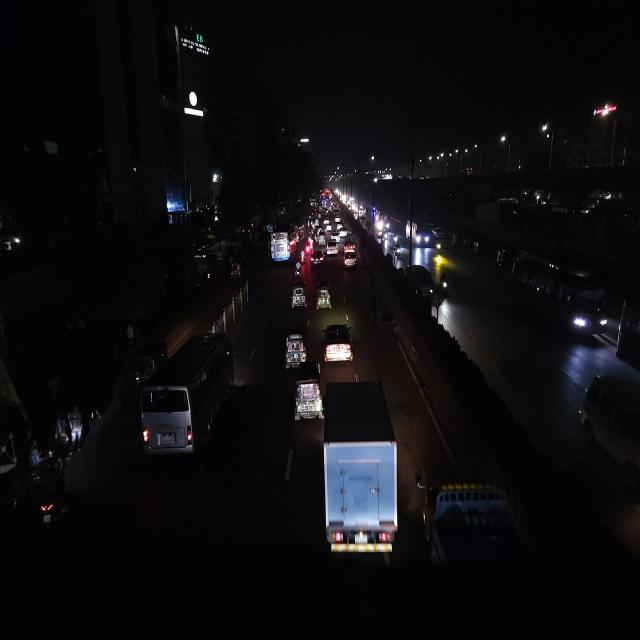bus: (136, 329, 238, 468), (508, 254, 612, 357), (268, 222, 299, 262), (406, 217, 430, 248), (376, 212, 390, 232)
car: (322, 321, 356, 368), (311, 248, 326, 268), (343, 251, 358, 270), (326, 238, 340, 257), (338, 226, 348, 240)
cng: (292, 359, 323, 425), (285, 326, 309, 372), (315, 279, 333, 312), (290, 280, 308, 312), (318, 233, 326, 247)
motorcycle: (436, 270, 452, 296), (392, 239, 403, 261), (293, 260, 303, 278), (435, 236, 443, 256), (300, 247, 307, 264)
pickup_van: (413, 462, 556, 640)
truck: (321, 377, 404, 572)
